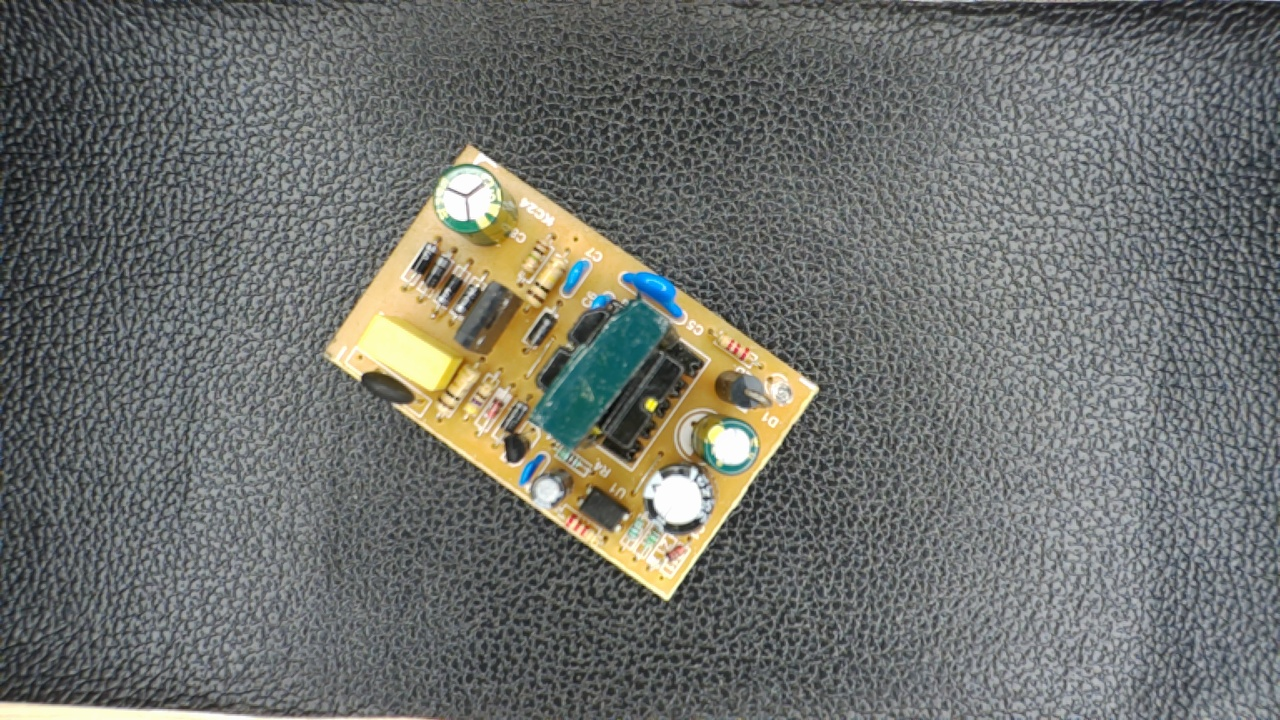fuse: (356, 368, 420, 407)
hv_capacitor: (432, 168, 515, 246)
mov: (618, 264, 689, 323)
optocoupler: (572, 482, 630, 533)
